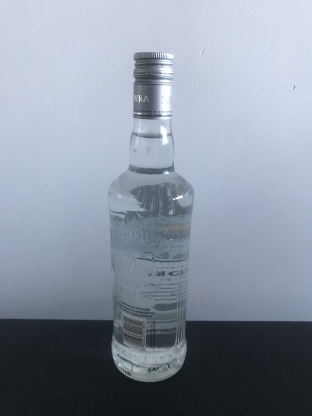nakretka: (131, 50, 175, 118)
